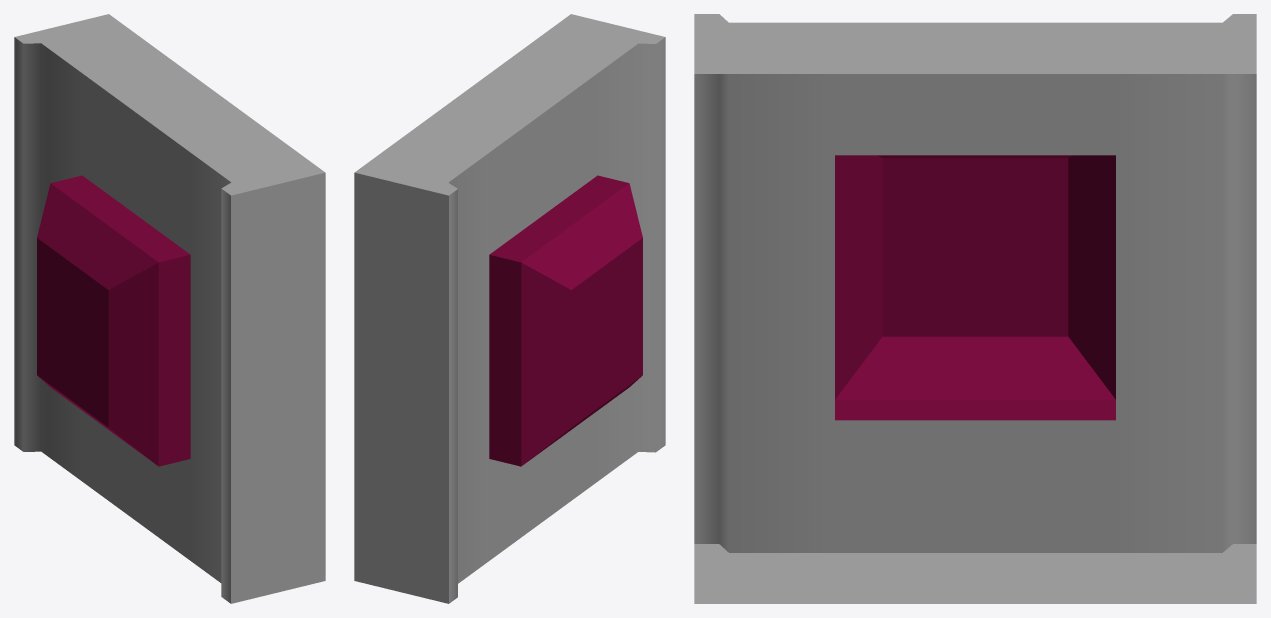
The model's file is SM_button.fbx.
The picture shows the model from 3 angles, left to right: view 1: azimuth 30°, elevation 25°; view 2: azimuth 150°, elevation 25°; view 3: azimuth 270°, elevation 25°; orthographic projection. The views are drawn at different scales.
Visible parts, largest first — view 1: pCube73; view 2: pCube73; view 3: pCube73.
Boxes of the visible parts, x1=… form: pCube73: x1=14, y1=14, x2=325, y2=603; pCube73: x1=354, y1=14, x2=665, y2=603; pCube73: x1=694, y1=14, x2=1256, y2=603.
Bounding box in the file's own units: 0.3823 × 1.03 × 0.993.
